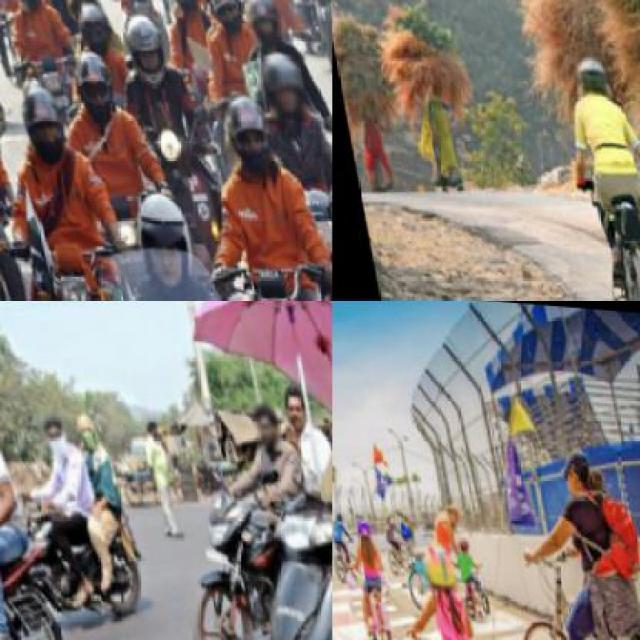With Helmet: (118, 178, 198, 296), (207, 70, 276, 176), (111, 0, 177, 91), (6, 74, 71, 161), (66, 39, 119, 124), (256, 43, 309, 115), (409, 533, 457, 590), (238, 0, 288, 45), (72, 0, 112, 52), (564, 44, 604, 94), (204, 0, 244, 28), (346, 506, 369, 540), (162, 0, 203, 14)
Without Helmet: (554, 430, 600, 492), (242, 384, 281, 447), (32, 399, 72, 459)
